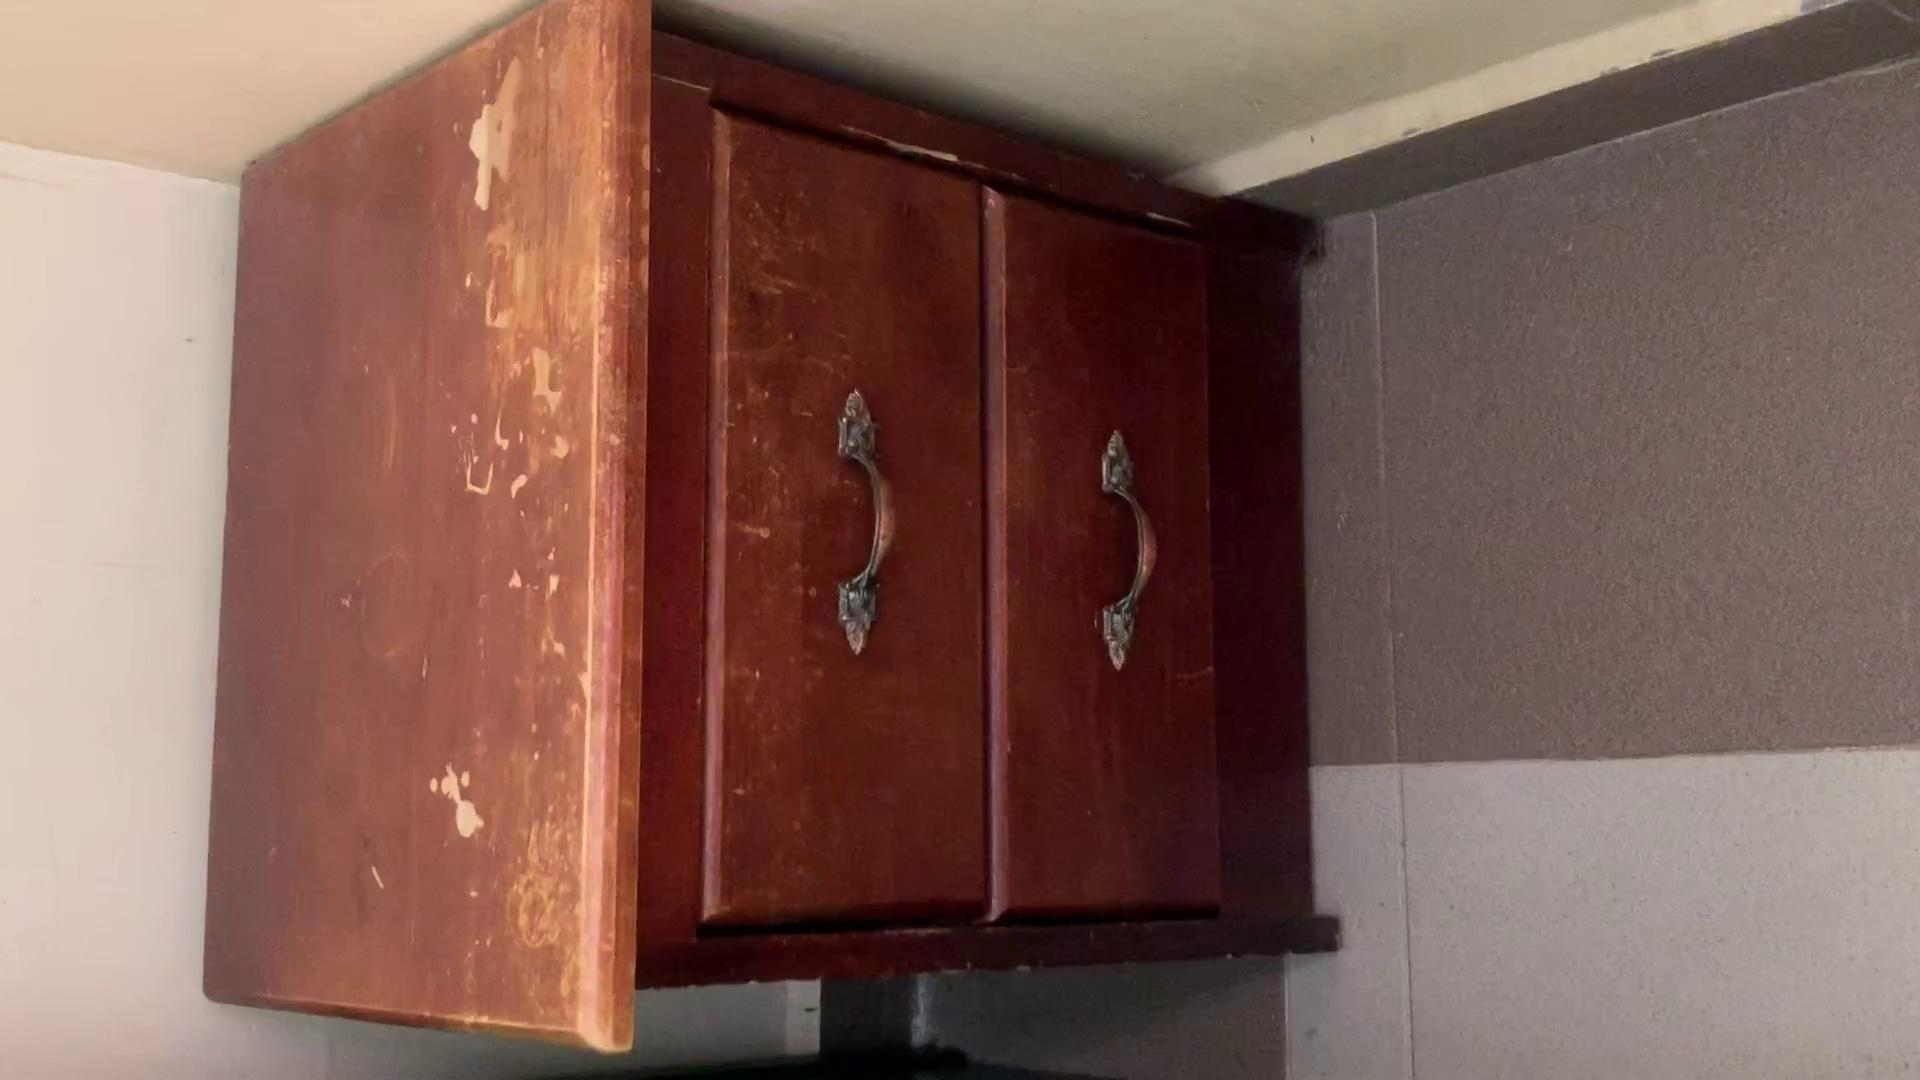cabinet_door: (711, 136, 980, 936), (986, 200, 1207, 922)
handle: (823, 380, 915, 663), (1081, 422, 1160, 676)
